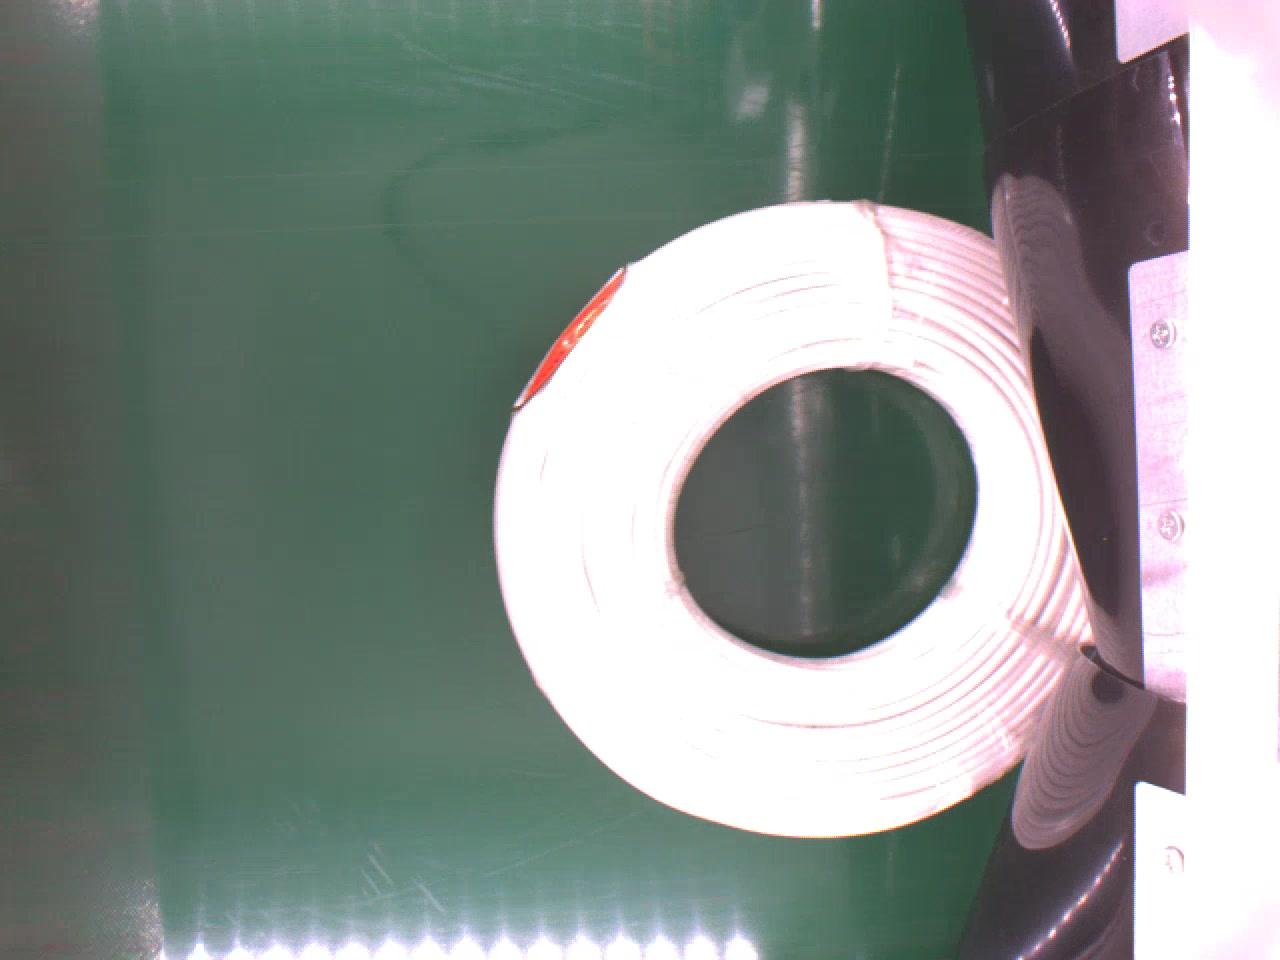white: (490, 193, 1099, 853)
